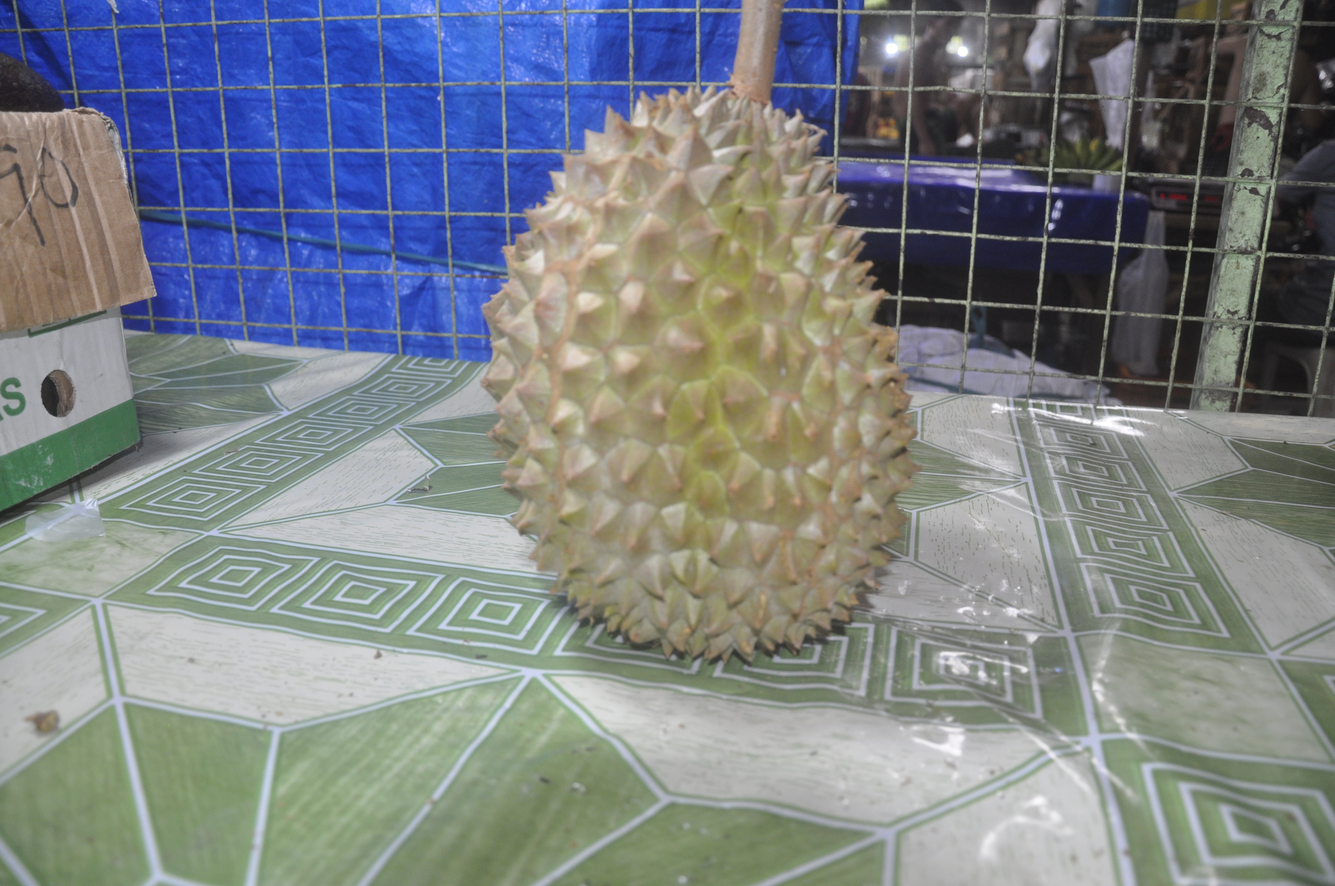mature: (483, 89, 916, 660)
